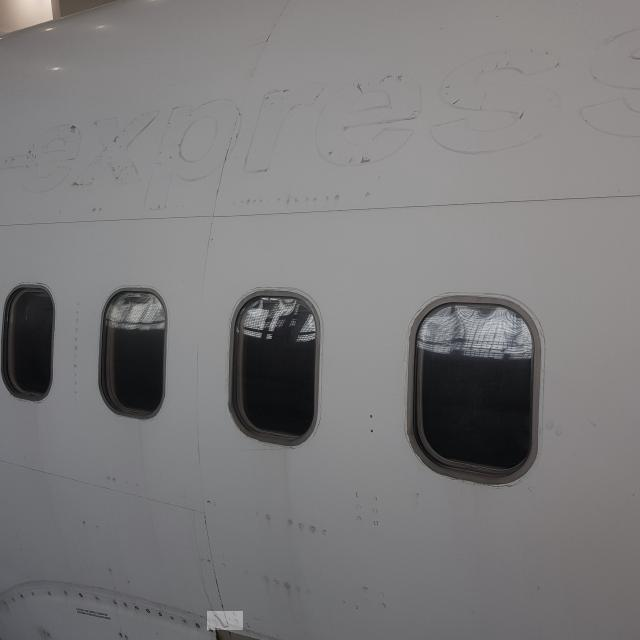crack: (208, 612, 244, 631)
